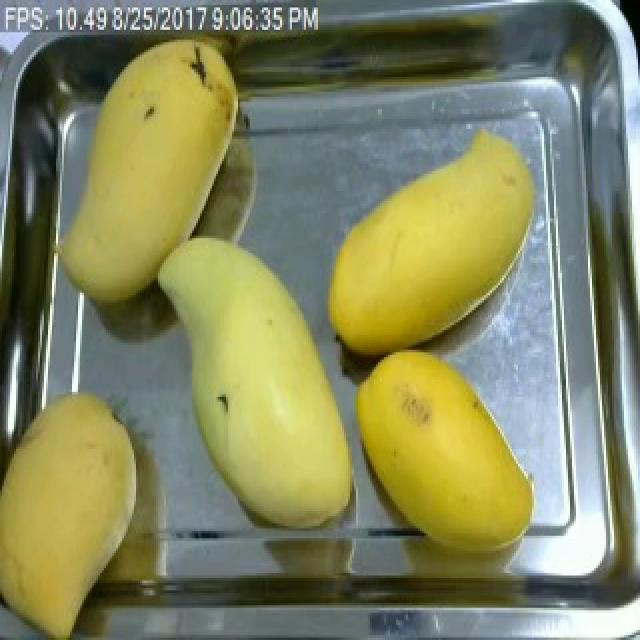fruit: (162, 228, 362, 538), (308, 114, 548, 365), (60, 30, 252, 315), (348, 338, 542, 576), (0, 384, 150, 640)
